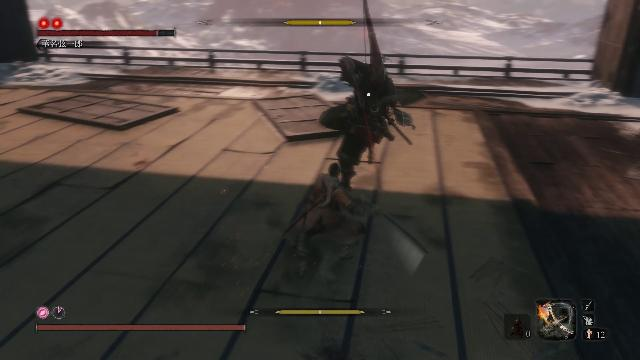sk: (274, 163, 381, 274)
